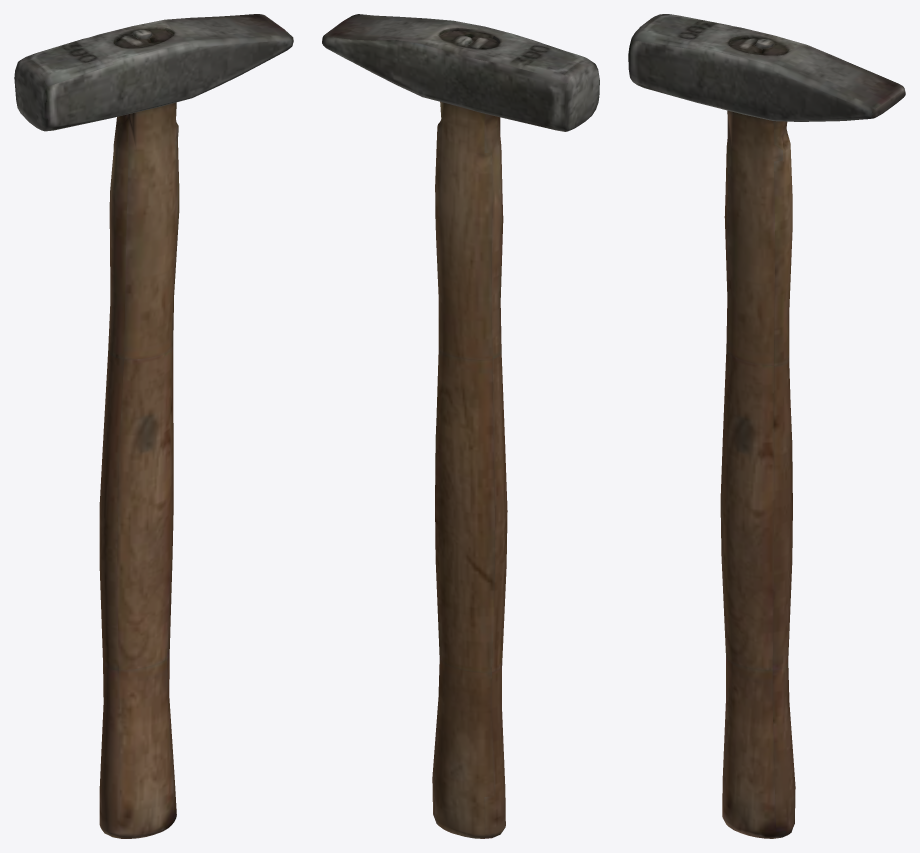
Rendered from cross_pein_hammer.glb.
3 renders of one model, left to right at view 1: azimuth 30°, elevation 25°; view 2: azimuth 150°, elevation 25°; view 3: azimuth 330°, elevation 25°, orthographic.
Parts seen in each view (by area): view 1: cross_pein_hammer; view 2: cross_pein_hammer; view 3: cross_pein_hammer.
Boxes of the visible parts, <box> form: cross_pein_hammer: <box>14,14,293,838</box>; cross_pein_hammer: <box>322,14,599,838</box>; cross_pein_hammer: <box>628,14,905,838</box>.
Bounding box in the file's own units: 0.099 × 0.3002 × 0.0243.
Materials: 1 (1 with a texture image).
